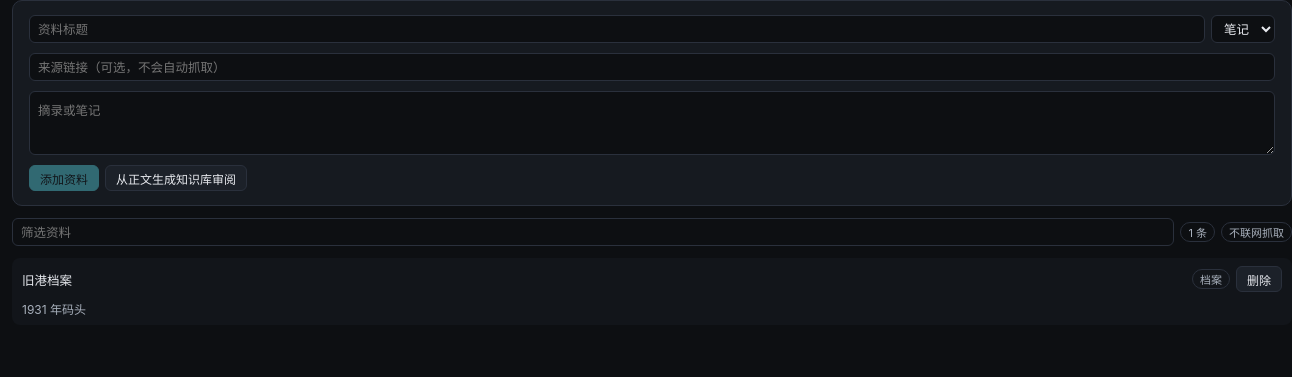
Test: ResearchBody › knowledge-base review surfaces the honest backend reason
Expected: the text "旧港档案" is shown, [22,272,72,288]
Click the button "从正文生成知识库审阅": (176, 178) [105,165,247,191]
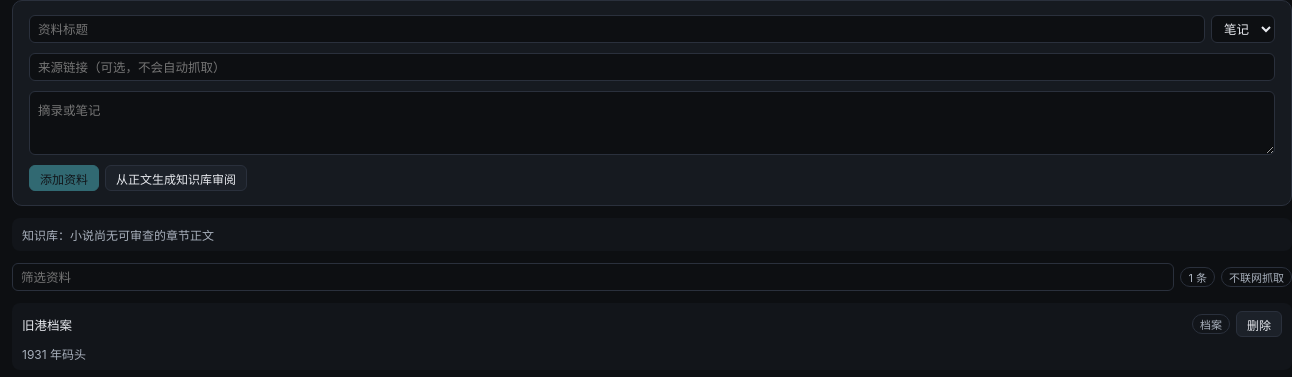
Expected: the text "知识库：小说尚无可审查的章节正文" is shown, [12,218,1291,251]
